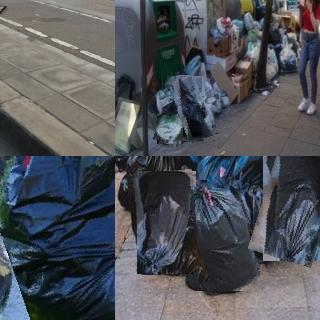Garbage: (0, 156, 115, 320), (177, 176, 261, 295), (255, 156, 320, 264), (135, 170, 198, 275), (125, 156, 197, 227), (194, 156, 265, 192), (173, 75, 210, 142), (155, 113, 185, 146)
